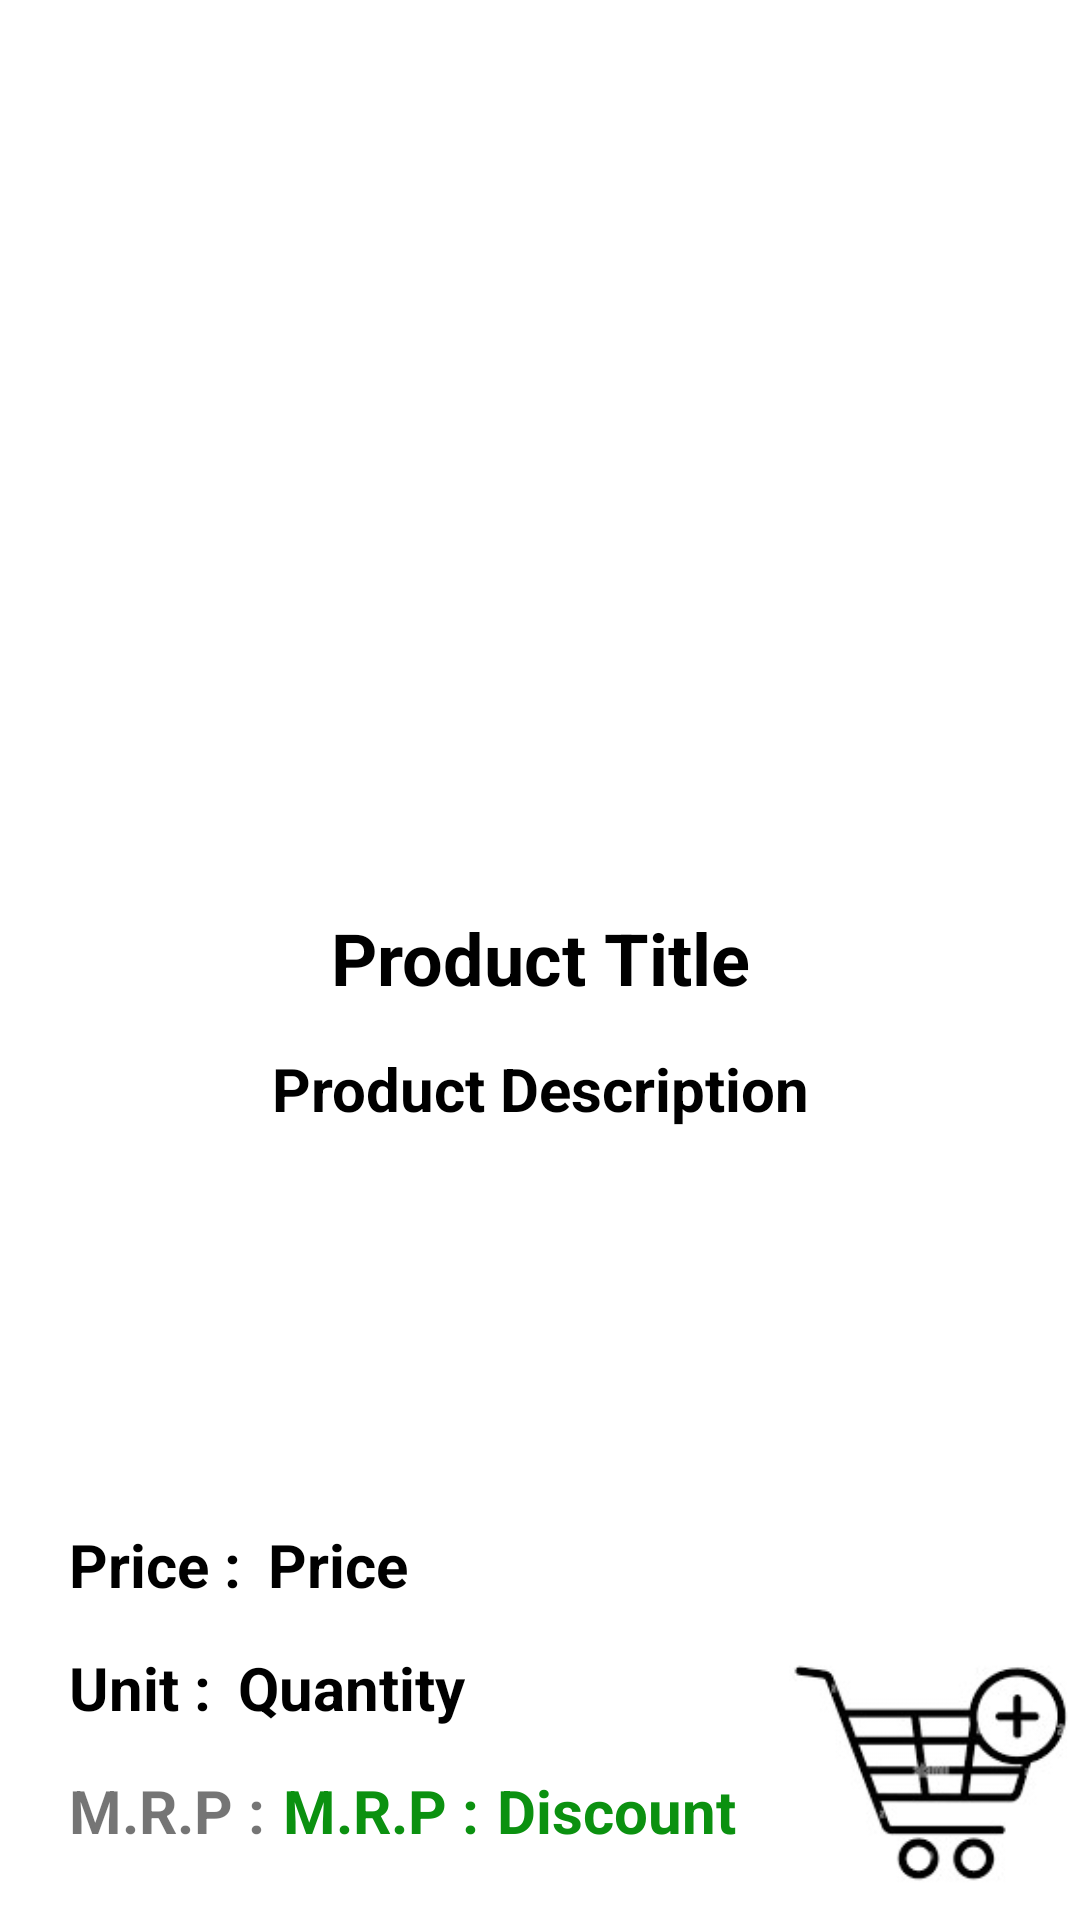

Named icons in this screenshot (1080px×1920px) and their centers, point (x, y):
add to cart: point (930, 1773)
